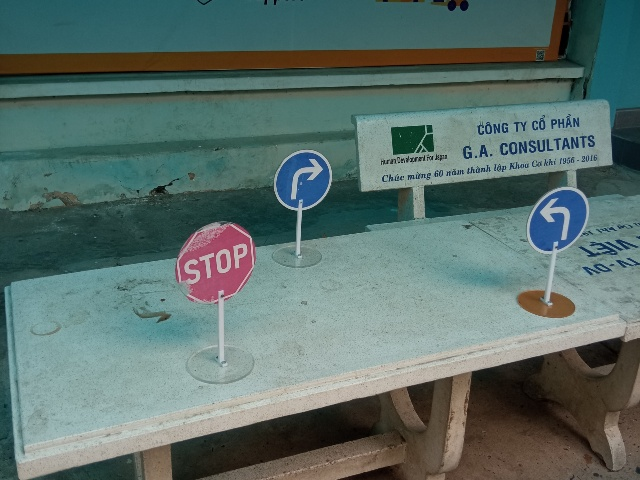Left_Sign: (527, 186, 589, 255)
Right_Sign: (274, 149, 333, 211)
Stop_Sign: (175, 221, 256, 304)
